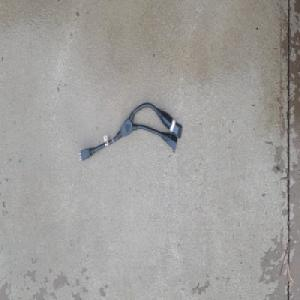Wire: (76, 101, 183, 163)
